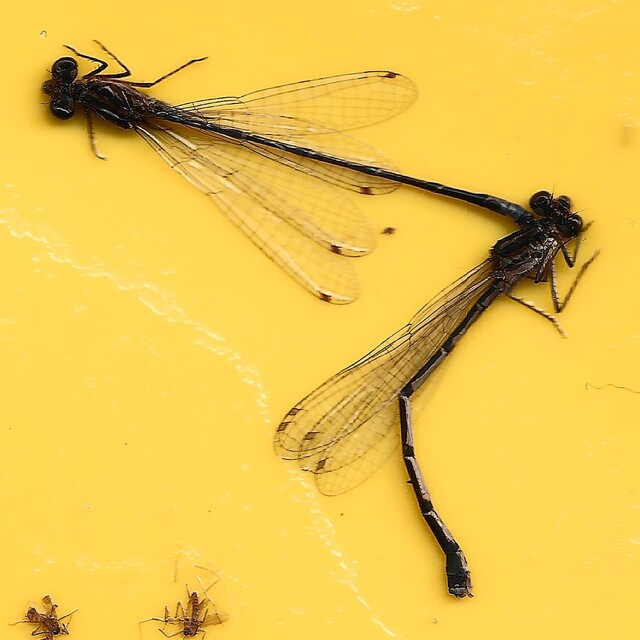Odonata: (273, 191, 599, 599), (41, 41, 530, 305)
